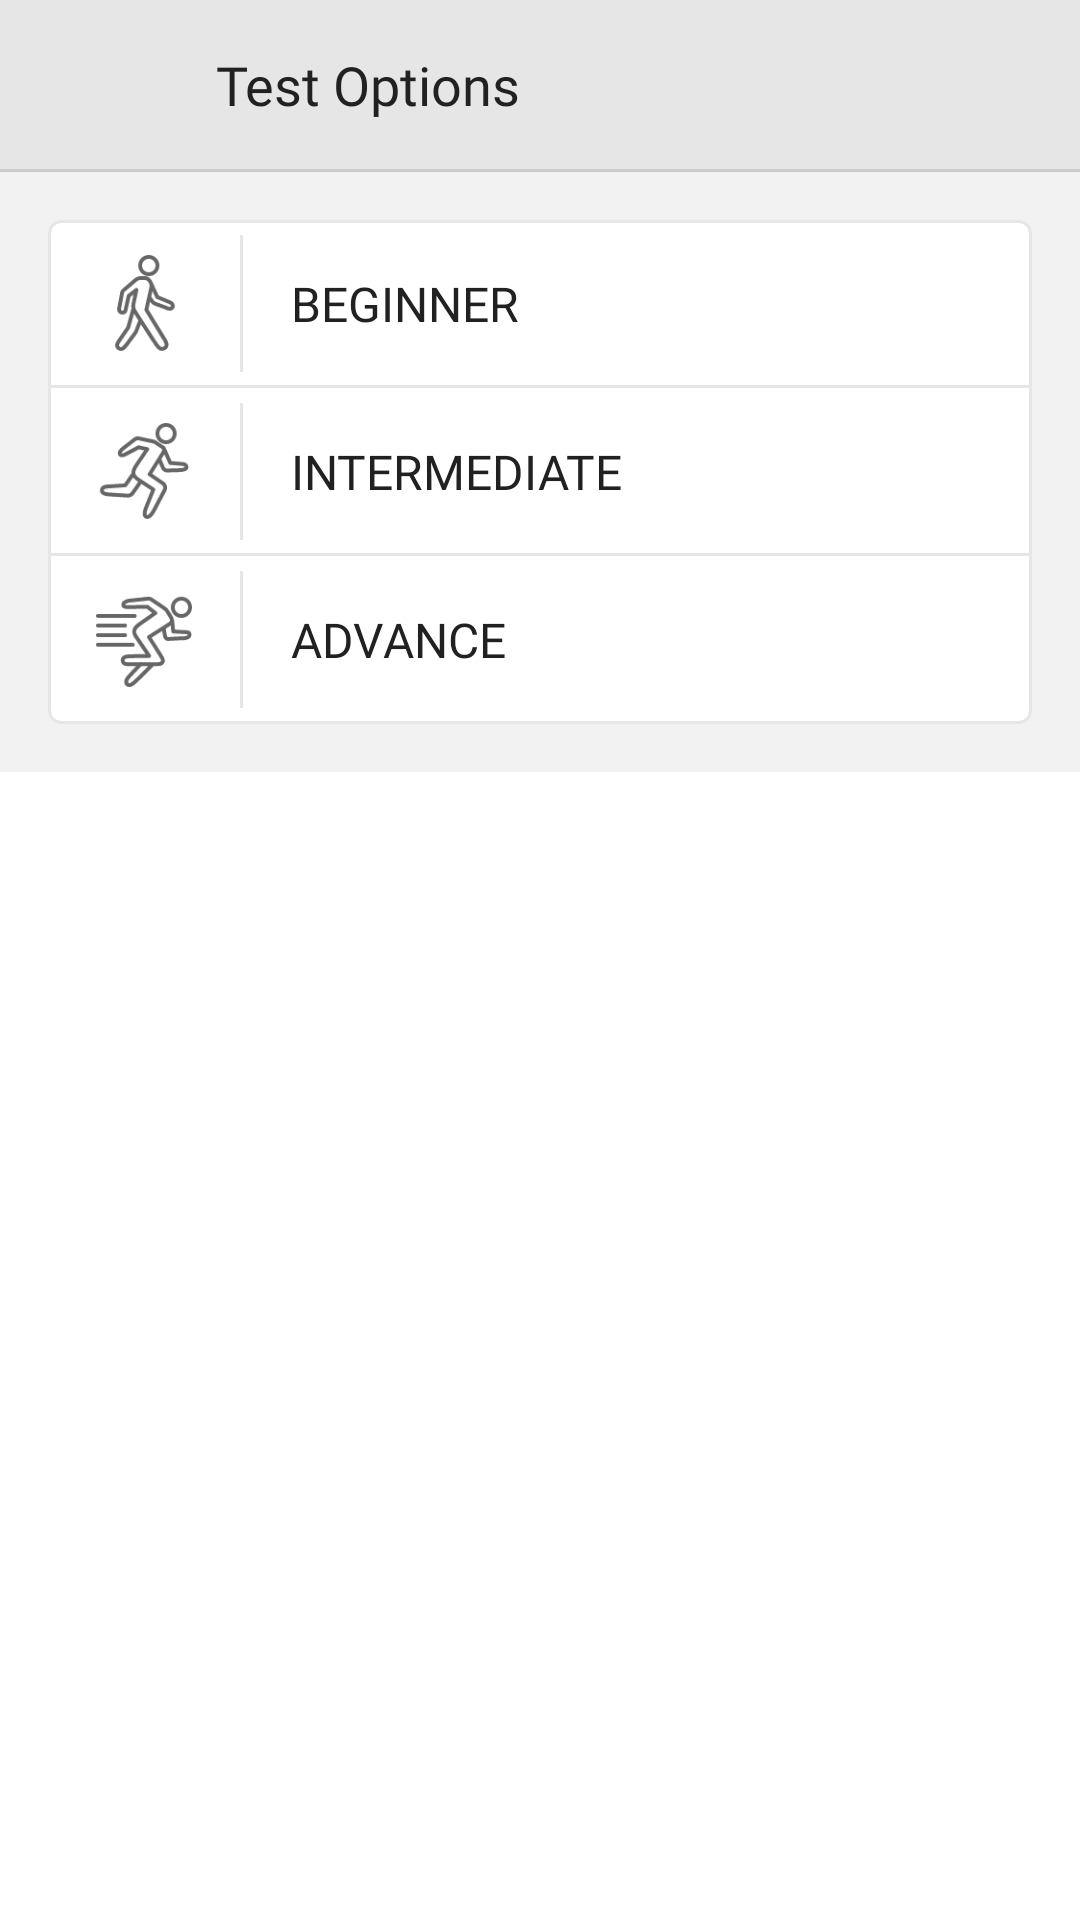

Named icons in this screenshot (1080×1920) and their bounding boxes, (x1, y1, x2, y2):
run menu: (100, 423, 189, 519)
walk: (115, 255, 175, 351)
